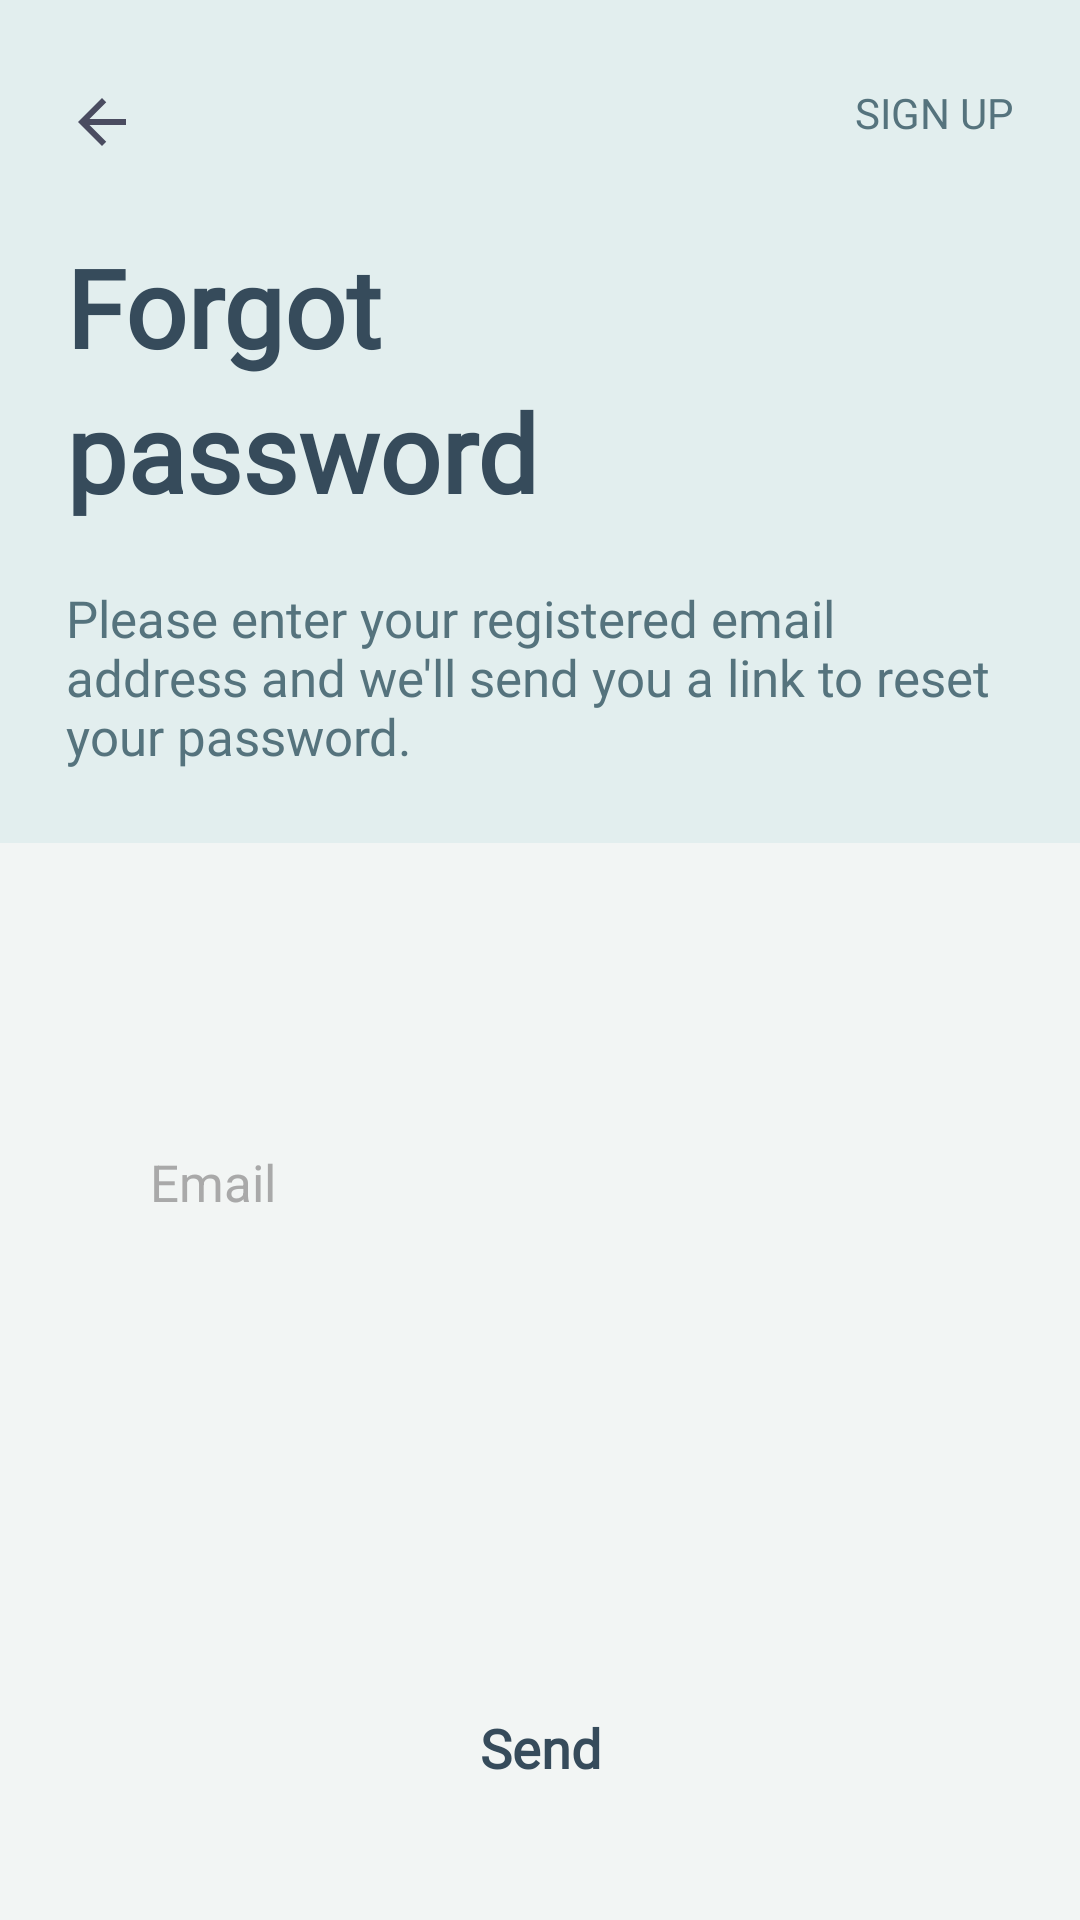

Locate icon controls on the screen. Image size 1080w x 1920h, boxes as (x1, y1, x2, y2).
back: (78, 98, 126, 146)
